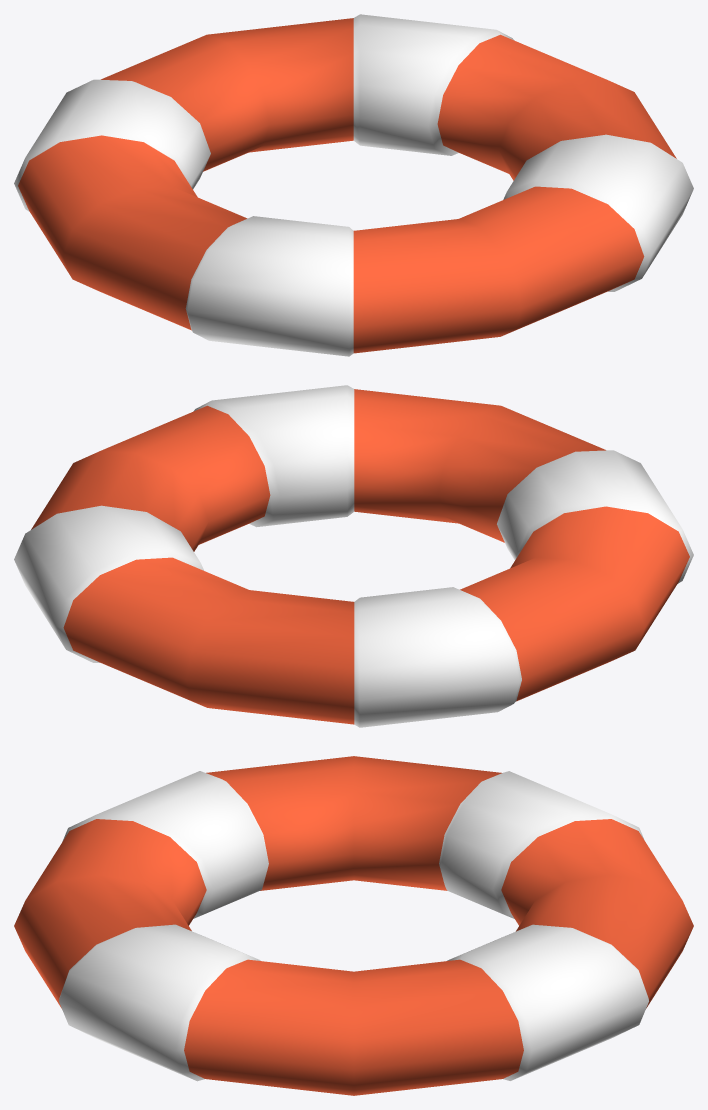
Rendered from lifering.fbx.
3 views of the same model, one above another, from view 1: azimuth 30°, elevation 25°; view 2: azimuth 150°, elevation 25°; view 3: azimuth 270°, elevation 25° (orthographic).
Parts seen in each view (by area): view 1: lifering; view 2: lifering; view 3: lifering.
Boxes of the visible parts, x1=… form: lifering: x1=14, y1=14, x2=693, y2=356; lifering: x1=14, y1=385, x2=693, y2=727; lifering: x1=14, y1=756, x2=693, y2=1095.
Size of the model in its own units: 136 by 24.18 by 136.
